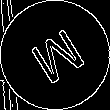M_SE: (22, 21, 88, 89)
